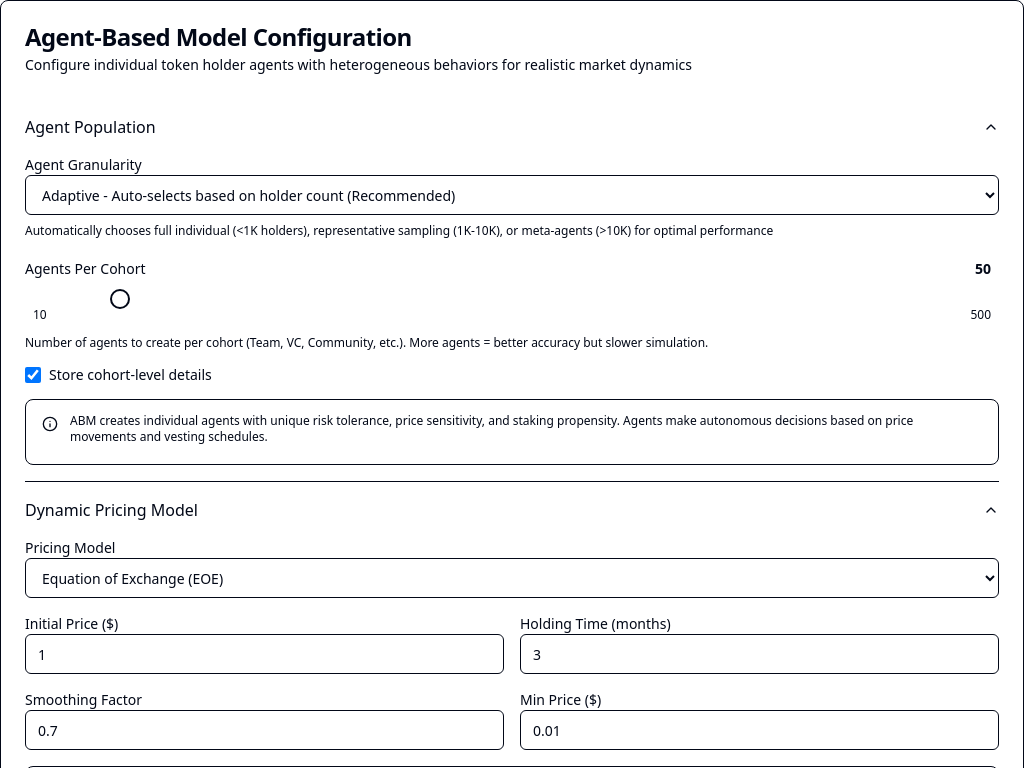
Test: ABM Configuration Form - User Interactions › Agent Granularity Selection › shows appropriate description for each granularity level
This screenshot has width=1024, height=768.
Note: Adaptive description
Select "Adaptive - Auto-selects based on holder count (Recommended)" in the dropdown labelled "Agent Granularity": point(512, 195) [25,175,999,215]
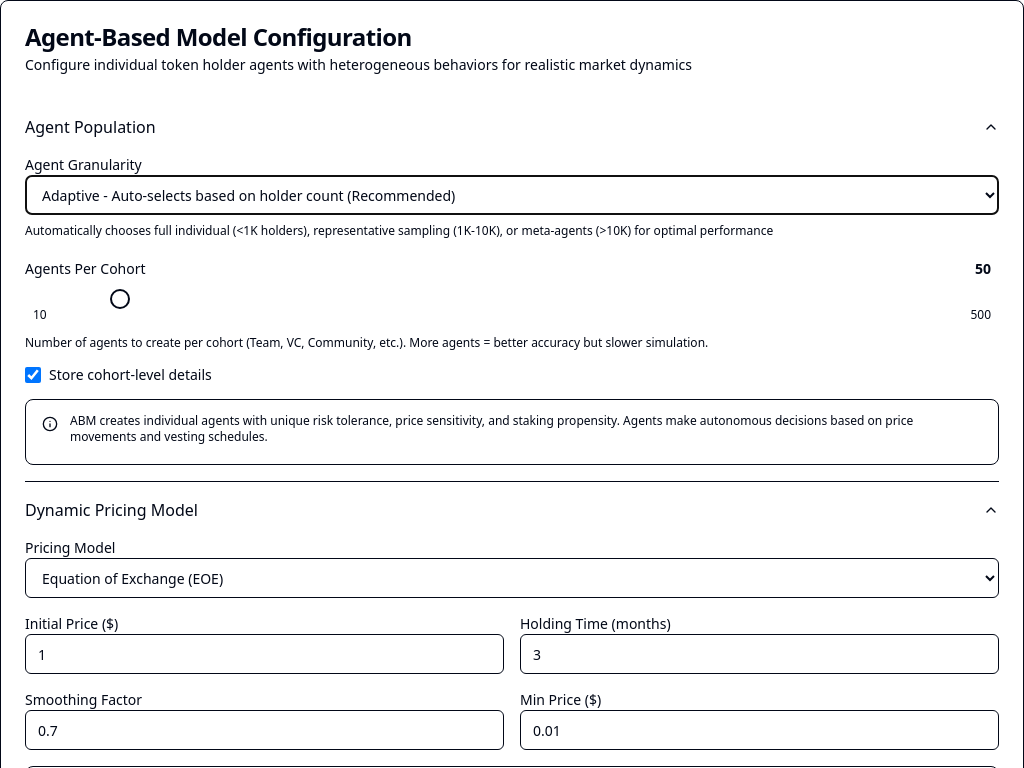
Expected: the text "Automatically chooses full individual" is shown, [25,222,773,239]
Note: Full individual description
Select "Full Individual - One agent per holder (most accurate, slowest)" in the dropdown labelled "Agent Granularity": point(512, 195) [25,175,999,215]
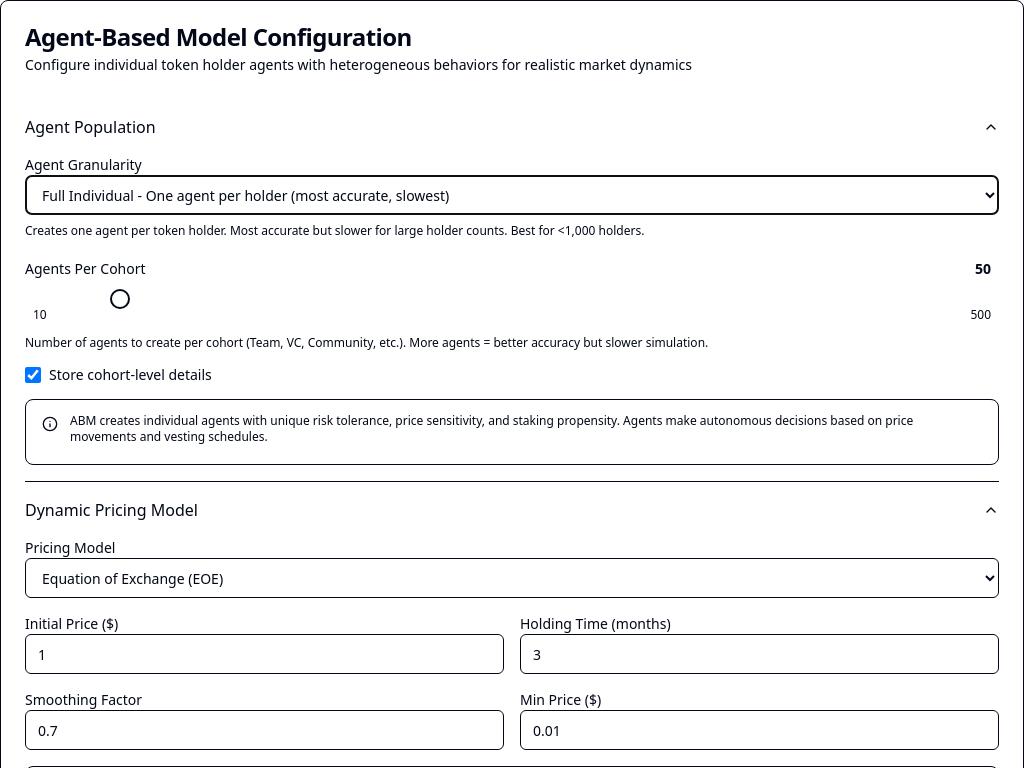
Expected: the text "Creates one agent per token holder" is shown, [25,222,644,239]
Note: Meta agents description
Select "Meta Agents - Representative sampling (fastest, good approximation)" in the dropdown labelled "Agent Granularity": point(512, 195) [25,175,999,215]
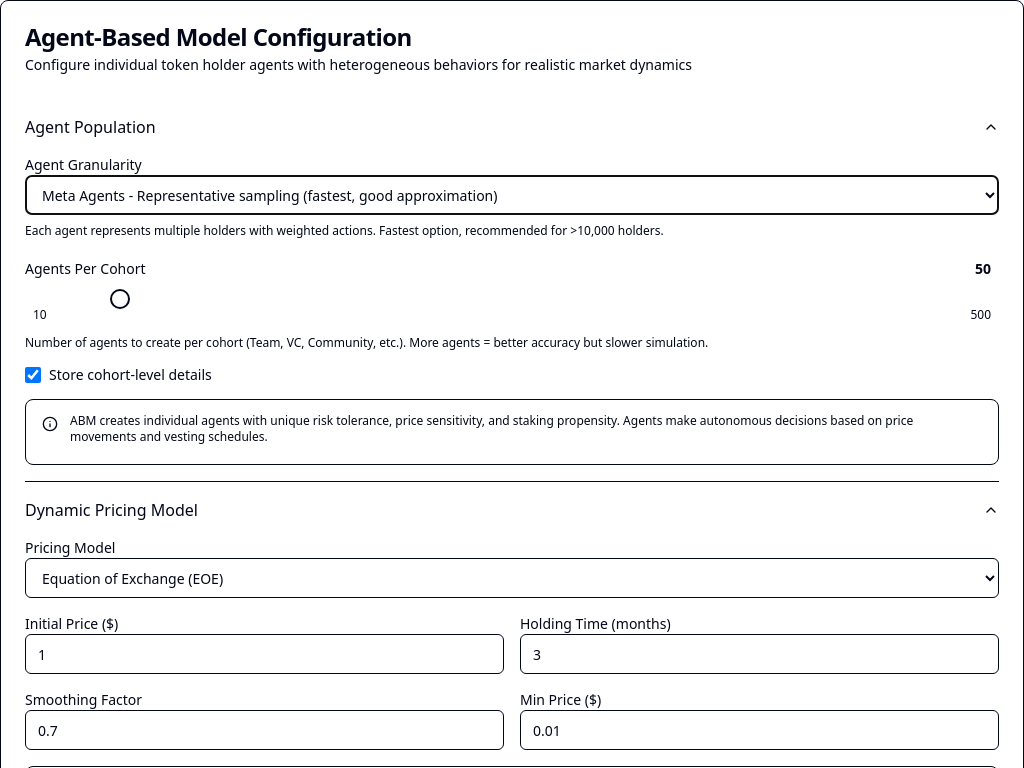
Expected: the text "Each agent represents multiple holders" is shown, [25,222,664,239]
